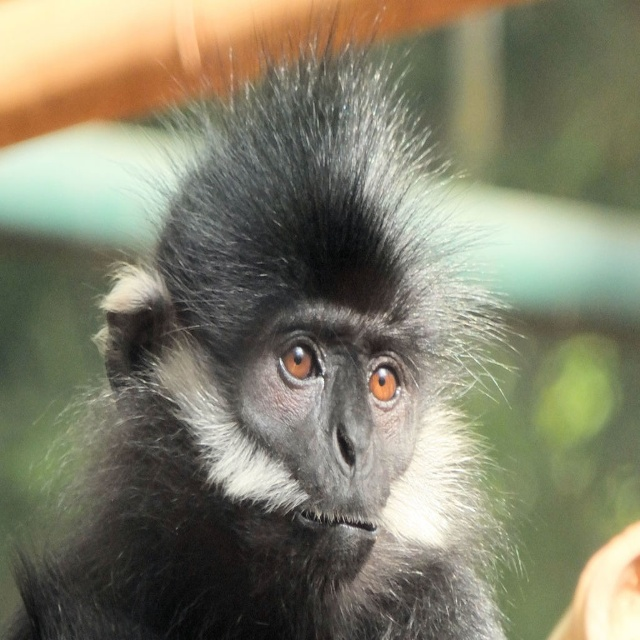Monkey: (0, 0, 538, 639)
